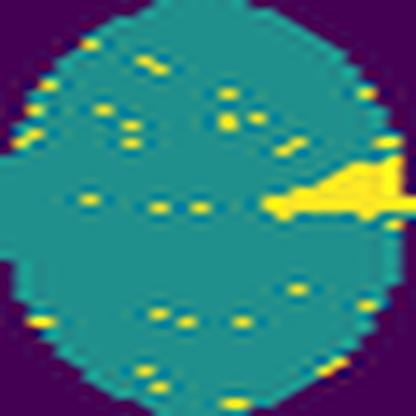Loc: (258, 152, 410, 219)
